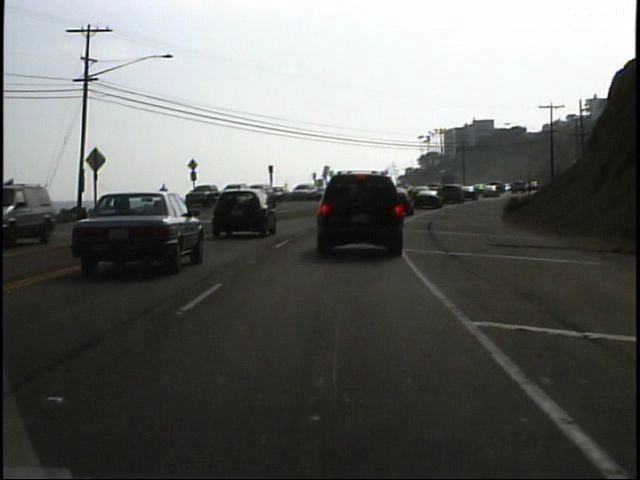person: (157, 179, 173, 211)
